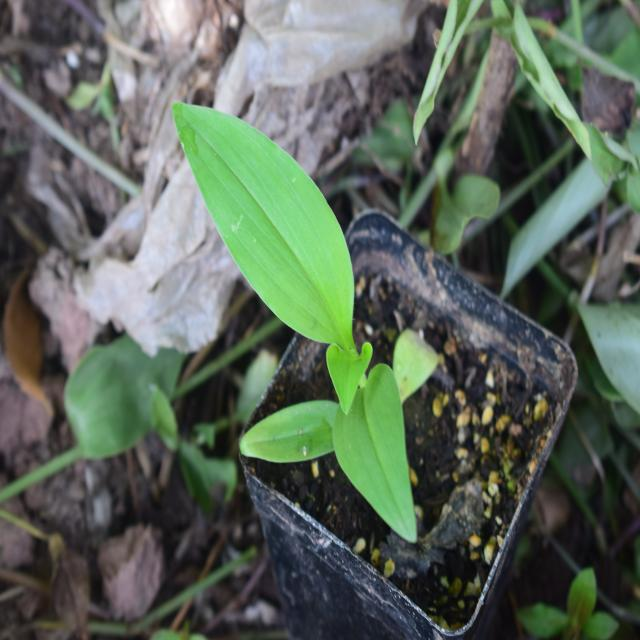Common Dayflower: (168, 97, 430, 540)
